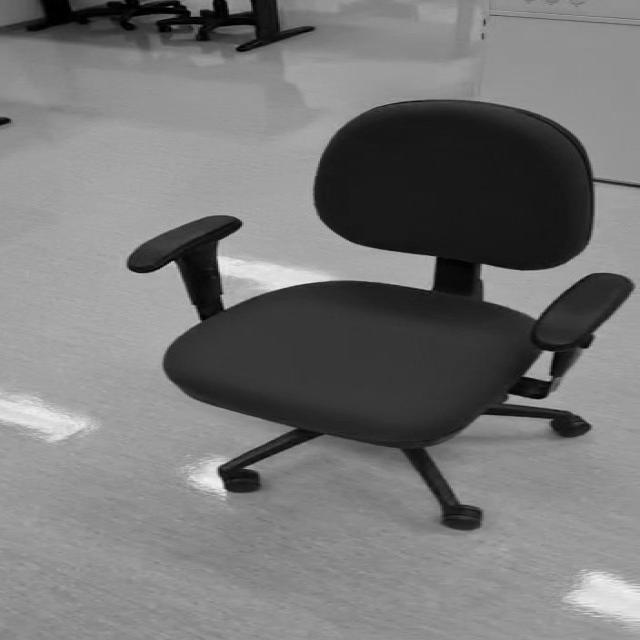cadeira-azul: (126, 100, 635, 530)
